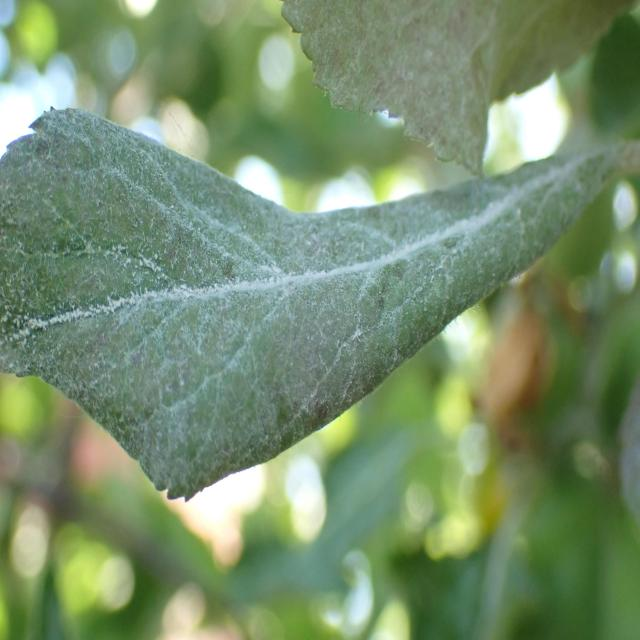Powdery_mildew: (0, 72, 628, 494), (284, 0, 636, 173)
